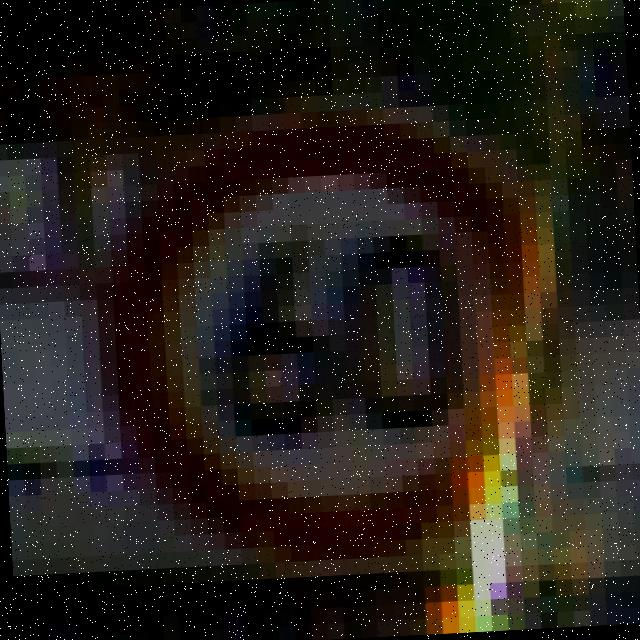Ograniczenie predkosci do 60: (115, 103, 548, 561)
